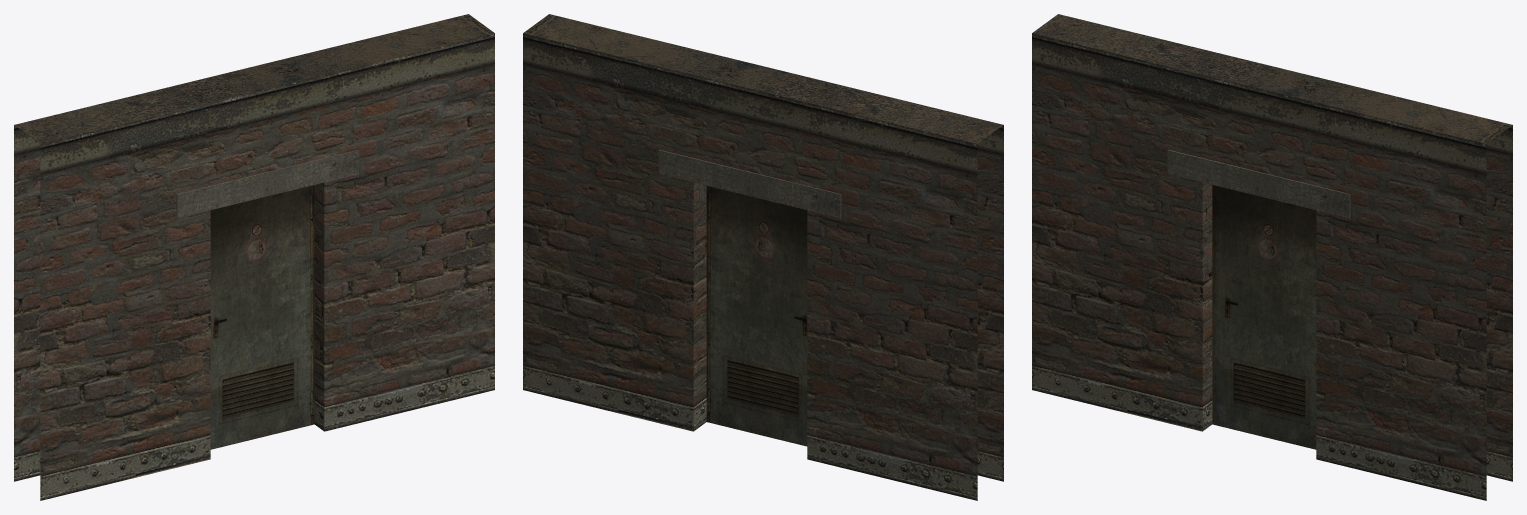
The model's file is doorway_hr_1.obj.
3 renders of one model, left to right at view 1: azimuth 30°, elevation 25°; view 2: azimuth 150°, elevation 25°; view 3: azimuth 330°, elevation 25°, orthographic.
Visible parts, largest first — view 1: doorway_hr_1, metal_door_1; view 2: doorway_hr_1, metal_door_1; view 3: doorway_hr_1, metal_door_1.
Part boxes in pixels (bbox=[...]): doorway_hr_1: bbox=[14, 14, 494, 500]; metal_door_1: bbox=[210, 185, 314, 449]; doorway_hr_1: bbox=[523, 14, 1003, 500]; metal_door_1: bbox=[706, 186, 807, 446]; doorway_hr_1: bbox=[1032, 14, 1512, 500]; metal_door_1: bbox=[1212, 185, 1316, 449].
Bounding box in the file's own units: 4 × 3 × 0.42.
